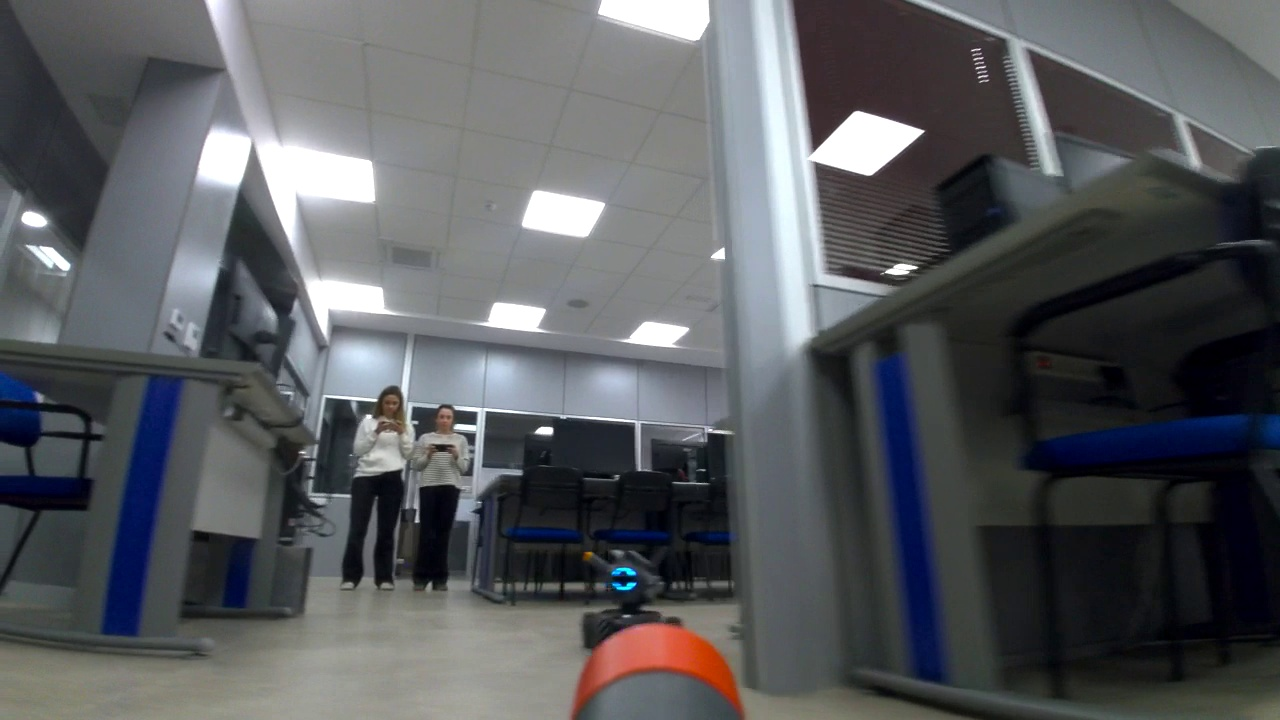robot: (579, 543, 684, 653)
